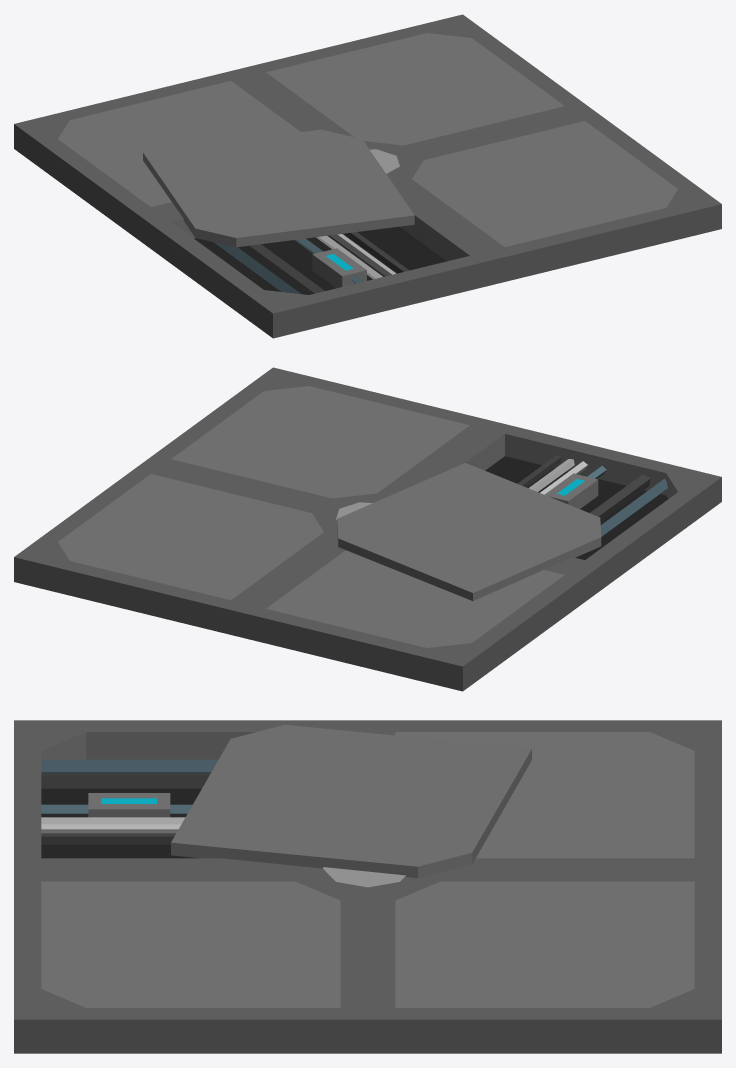
File: tile_platform_010.fbx
The picture shows the model from 3 angles, top to bottom: view 1: azimuth 30°, elevation 25°; view 2: azimuth 150°, elevation 25°; view 3: azimuth 270°, elevation 25°; orthographic projection. The views are drawn at different scales.
Parts seen in each view (by area): view 1: tile_platform_010; view 2: tile_platform_010; view 3: tile_platform_010.
Part boxes in pixels (bbox=[...]): tile_platform_010: bbox=[14, 14, 721, 338]; tile_platform_010: bbox=[14, 367, 721, 691]; tile_platform_010: bbox=[14, 720, 721, 1053].
Bounding box in the file's own units: 400 × 400 × 28.54.
